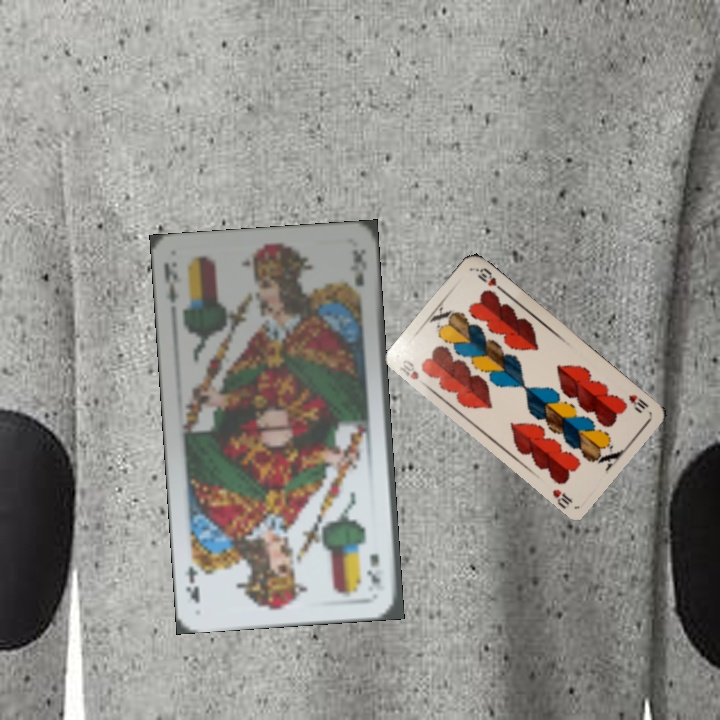EK: (159, 258, 183, 305), (365, 549, 387, 587)
H10: (624, 390, 651, 416), (396, 356, 421, 382)
